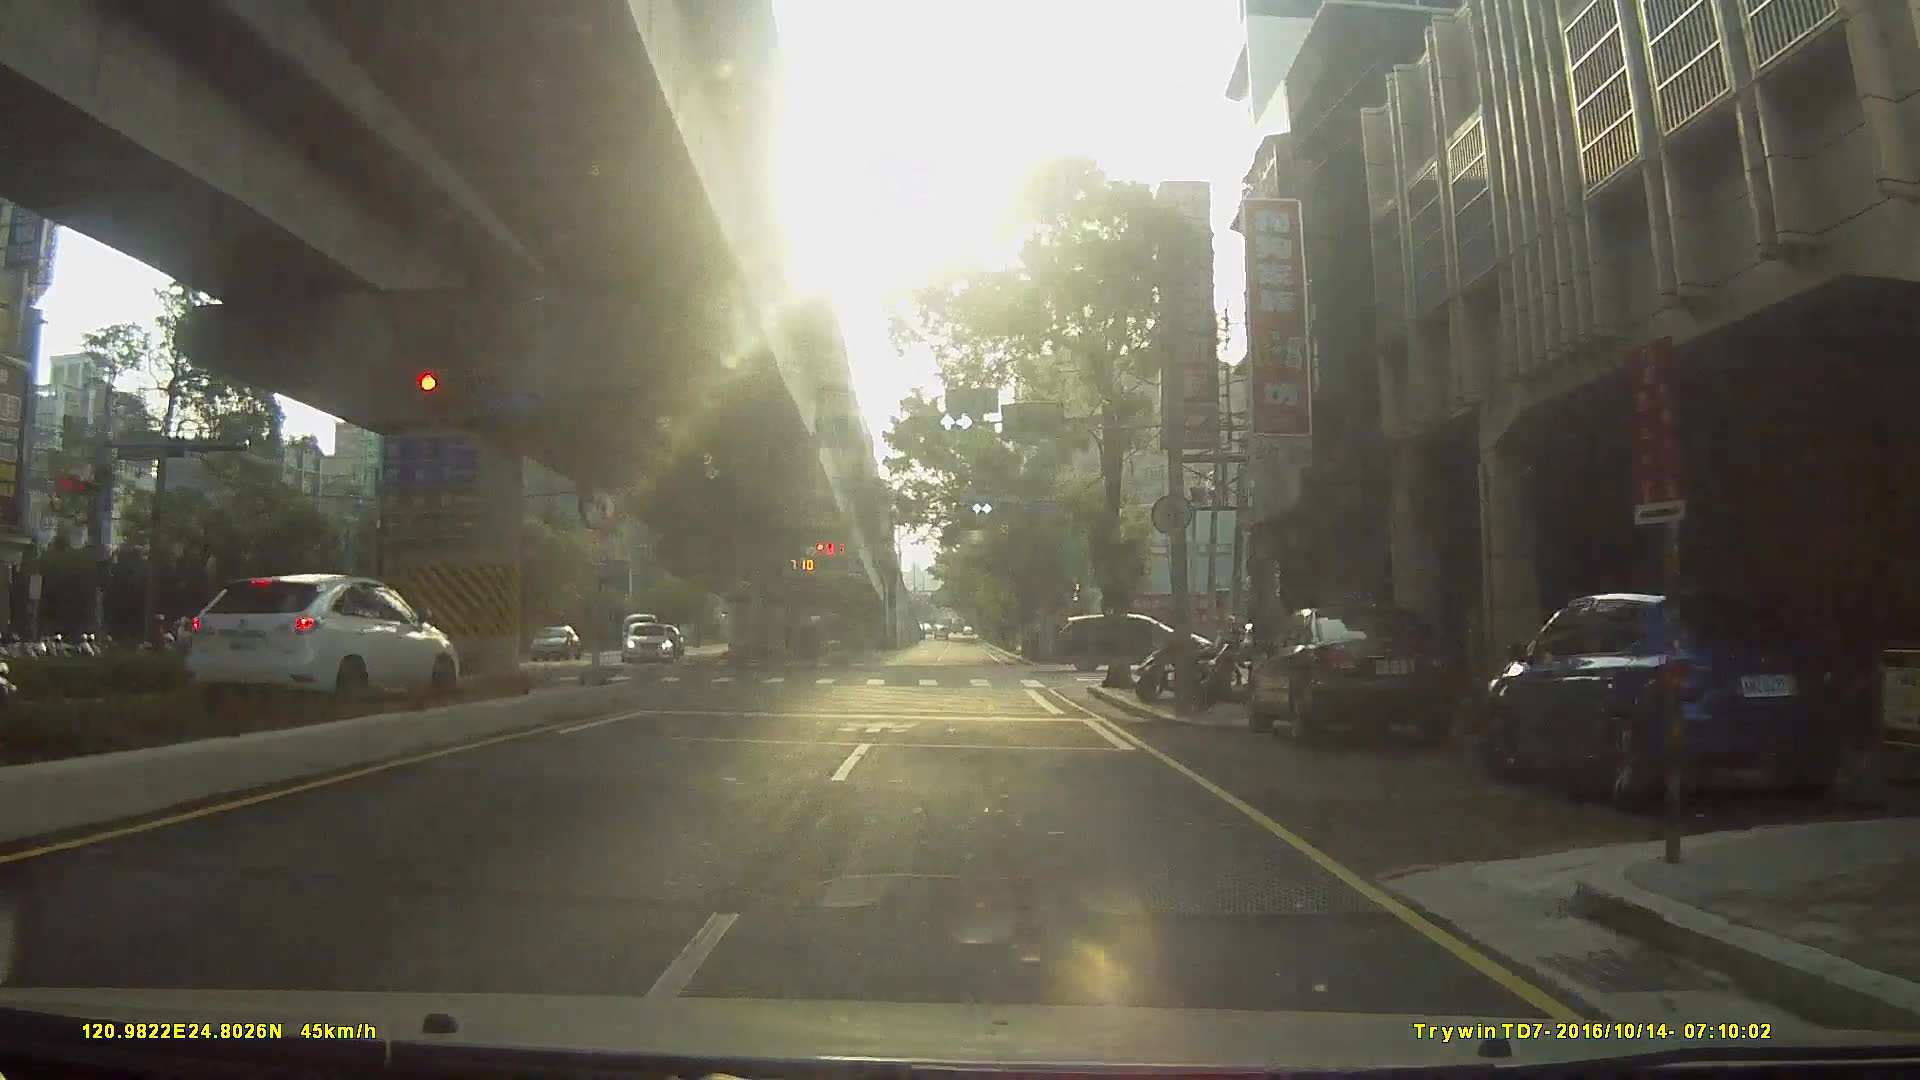vehicle: (1480, 587, 1876, 820), (171, 571, 464, 713), (1251, 603, 1470, 750), (1056, 609, 1224, 671), (620, 618, 671, 662), (524, 622, 576, 662)
